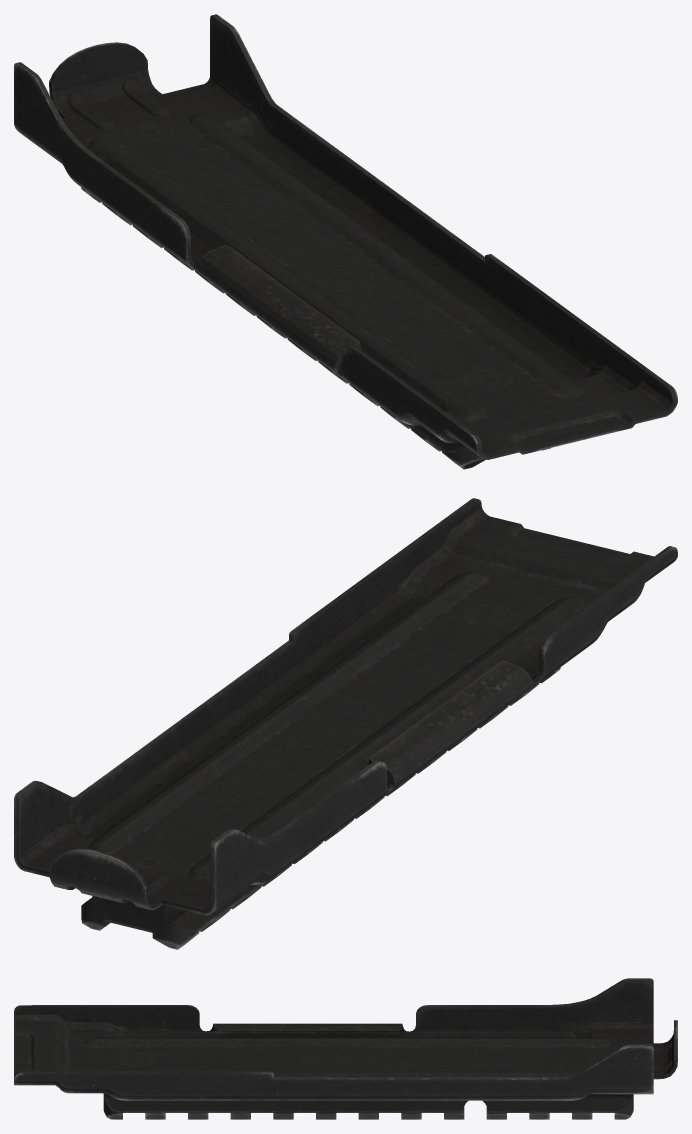
3 views of the same model, one above another, from view 1: azimuth 30°, elevation 25°; view 2: azimuth 150°, elevation 25°; view 3: azimuth 270°, elevation 25° (orthographic). The views are drawn at different scales.
Visible parts, largest first — view 1: TW_6680326874b8f2050c0b9178_PZ_Import; view 2: TW_6680326874b8f2050c0b9178_PZ_Import; view 3: TW_6680326874b8f2050c0b9178_PZ_Import.
Boxes of the visible parts, box(x1,y1,x2,y2) form: TW_6680326874b8f2050c0b9178_PZ_Import: box(14, 14, 677, 469); TW_6680326874b8f2050c0b9178_PZ_Import: box(14, 498, 677, 949); TW_6680326874b8f2050c0b9178_PZ_Import: box(14, 978, 677, 1119).
Bounding box in the file's own units: 0.0218 × 0.09 × 0.0139.
Materials: 1 (1 with a texture image).
